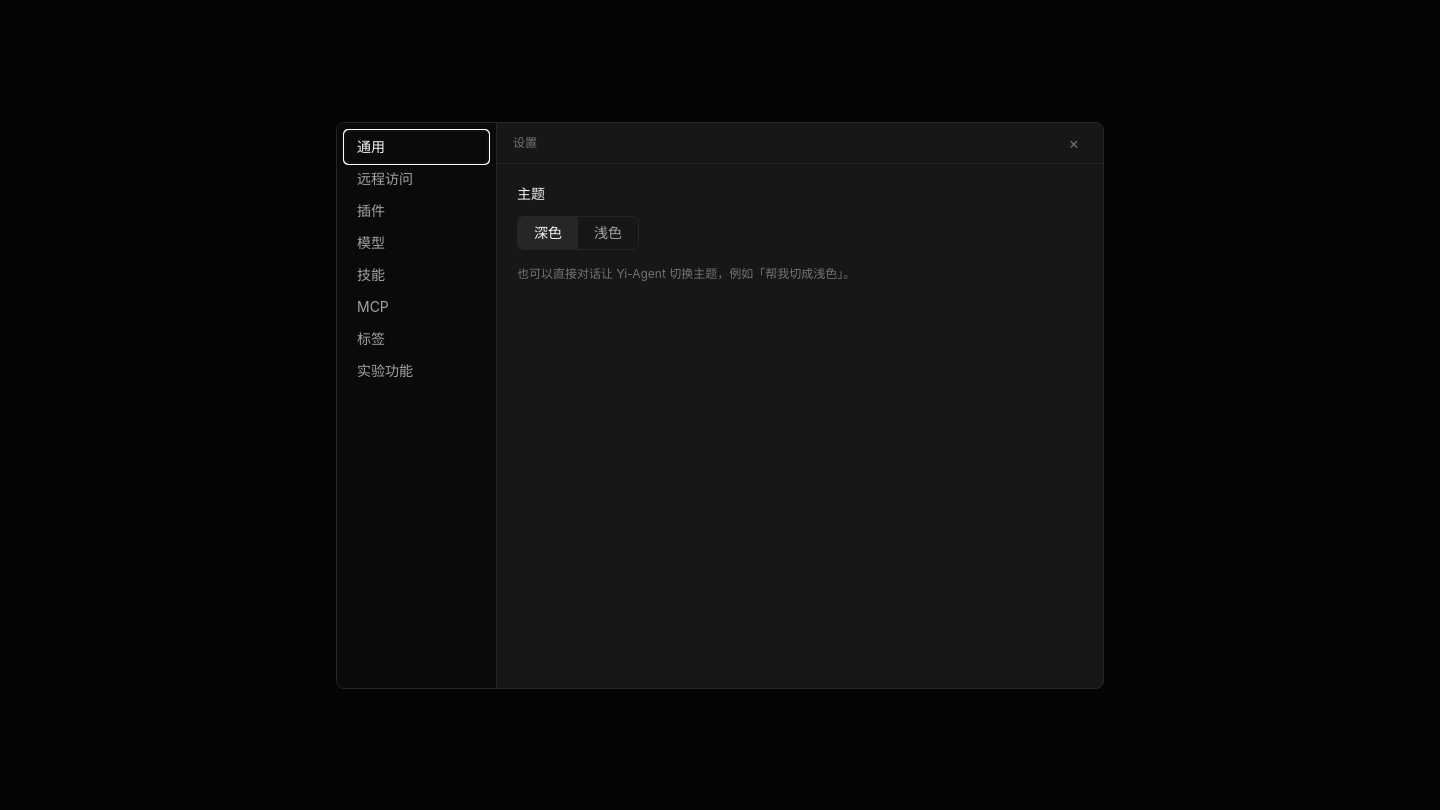
Scenario: SettingsDialog › shows the flags tab and lists flags in a dev build
Click the tab "实验功能": [416, 370] box [345,354,488,386]
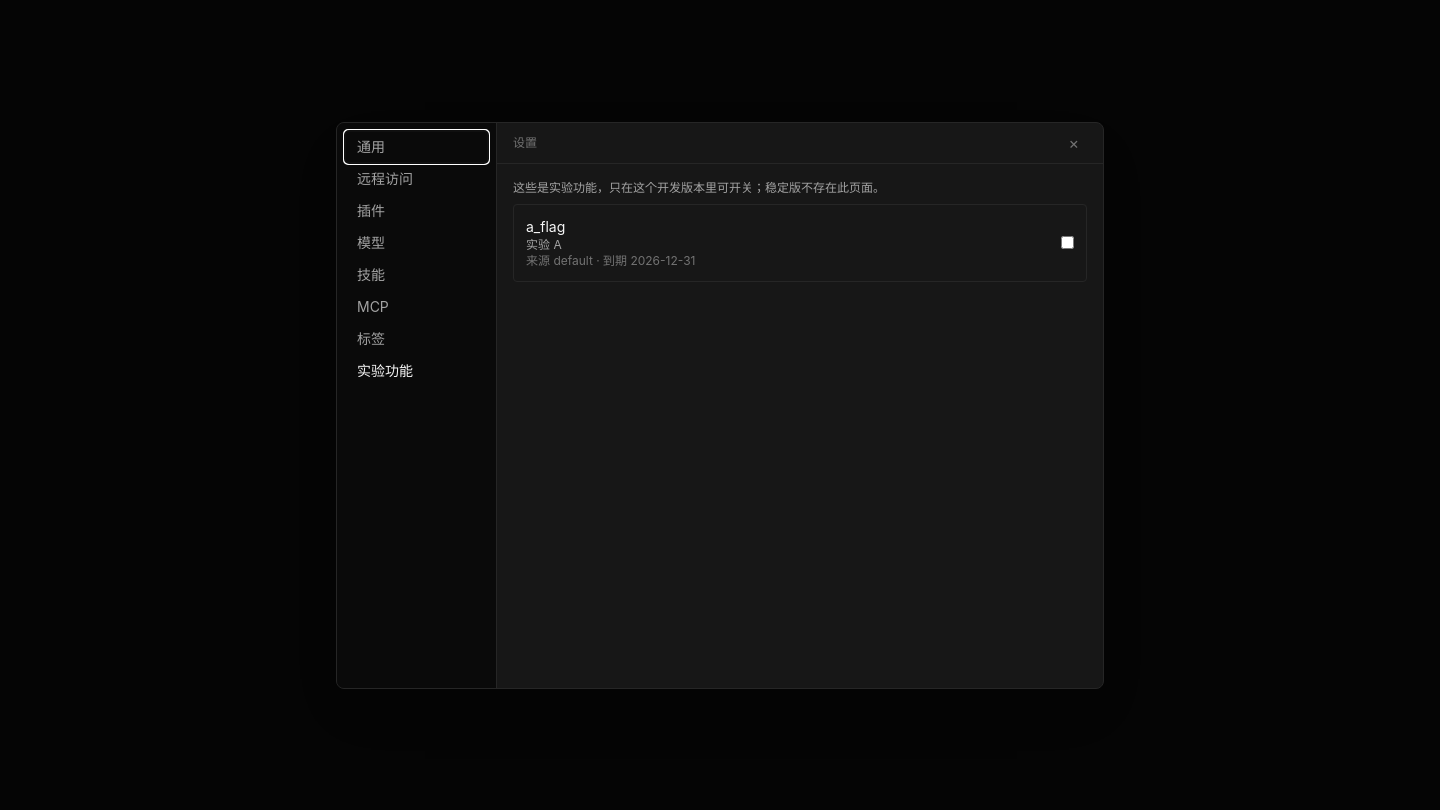
expect the text "a_flag" is shown: met, box [526,218,565,234]
